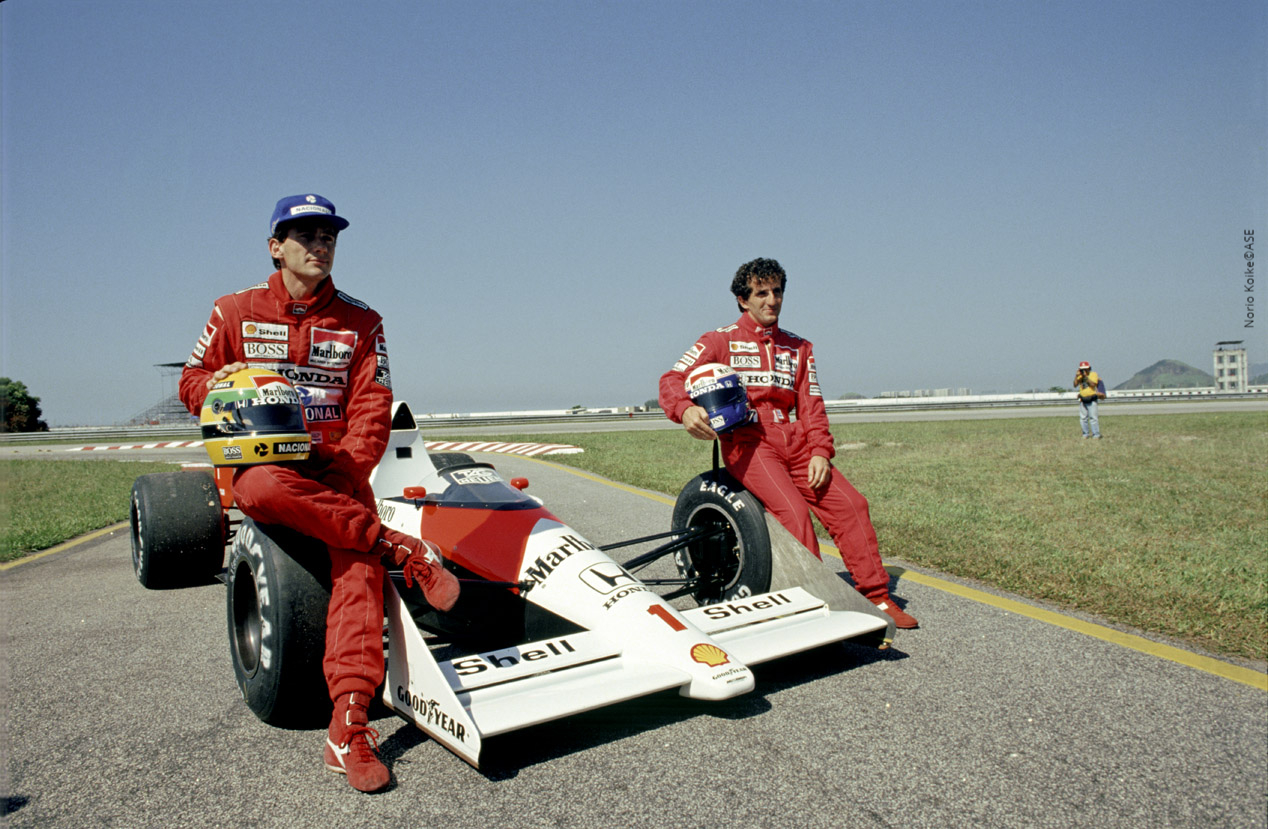f1_car: (113, 348, 937, 779)
helmet: (190, 354, 326, 482), (672, 355, 767, 444)
